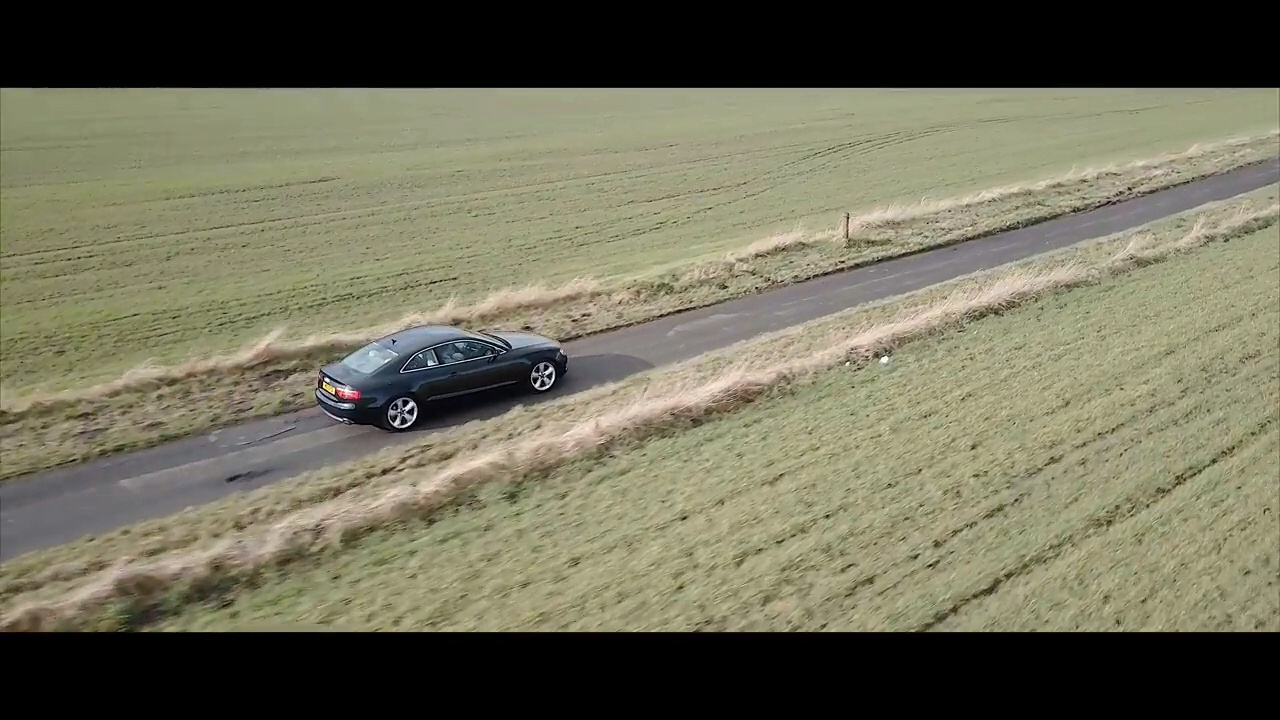araba: (306, 320, 573, 436)
